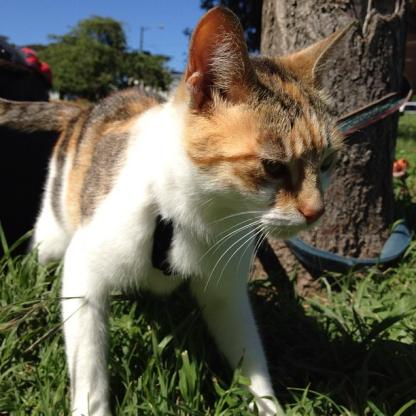Target: (0, 4, 358, 416)
